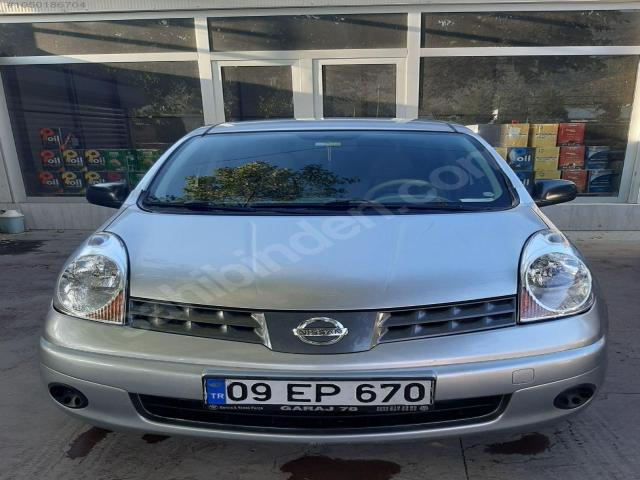plaka: (203, 378, 435, 412)
